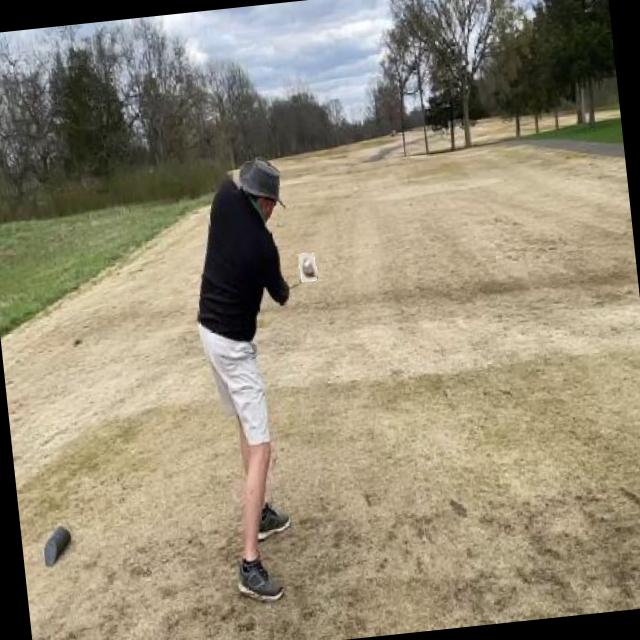club head: (298, 252, 317, 282)
